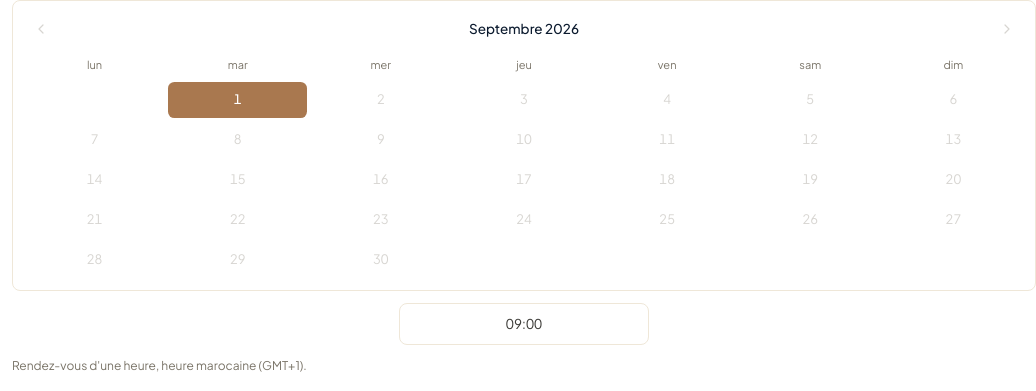
Test case: tenir un créneau (hold) › annonce que le créneau vient d'être pris et recharge quand le hold échoue
This screenshot has width=1036, height=391.
Click the button "09:00" at (524, 324), box [399,302,649,345]
Wait 1 ms
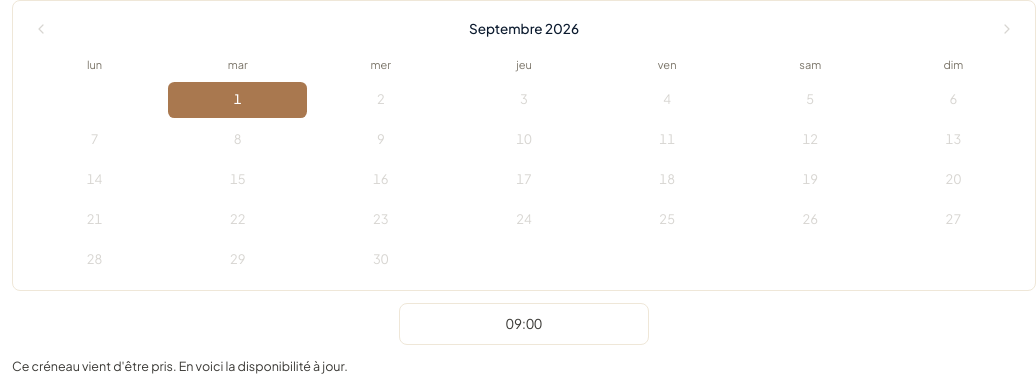
Now the text "vient d'être pris" is shown, box [12,358,348,374]
